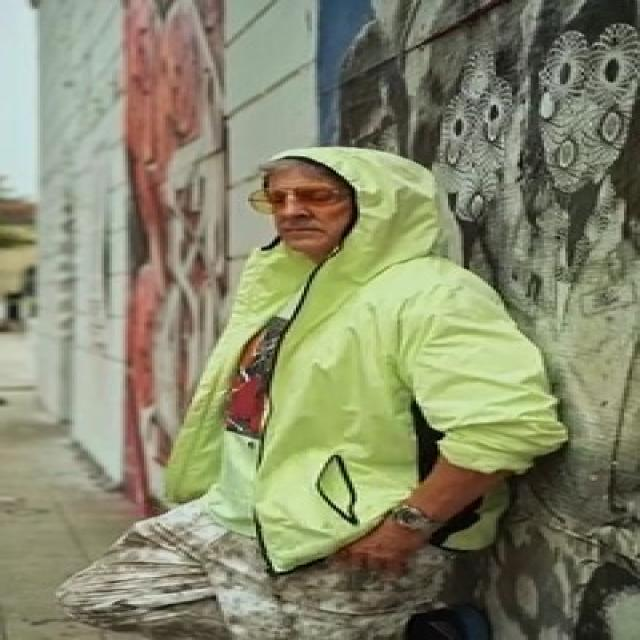Jacket_Wearer: (190, 251, 580, 552)
Person: (125, 131, 542, 640)
